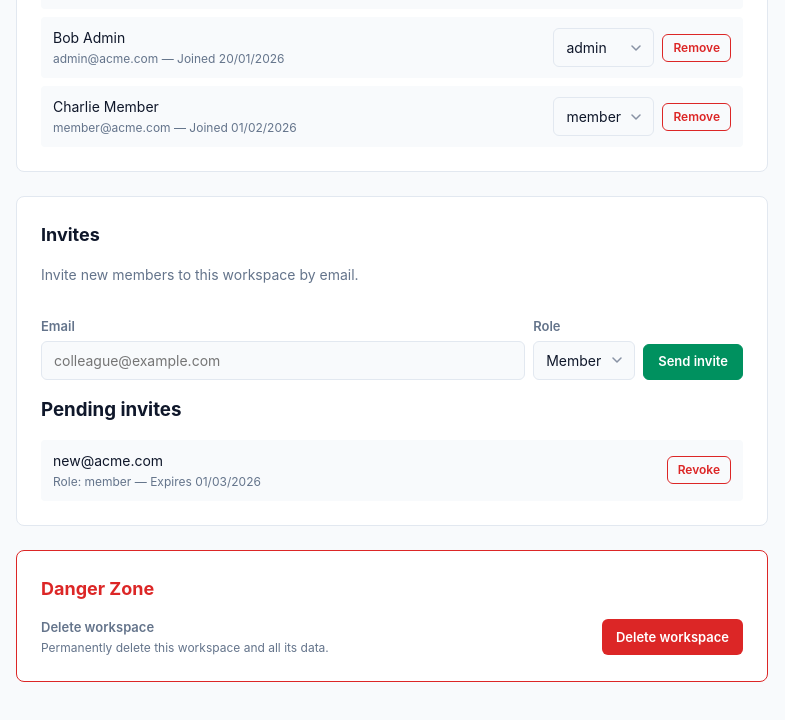
Test case: OrgSettings › send invite form submits correctly
(page scrolled)
Type "colleague@acme.com" into the field labelled "Email" at (283, 360), box top-left (41, 340), bottom-right (525, 380)
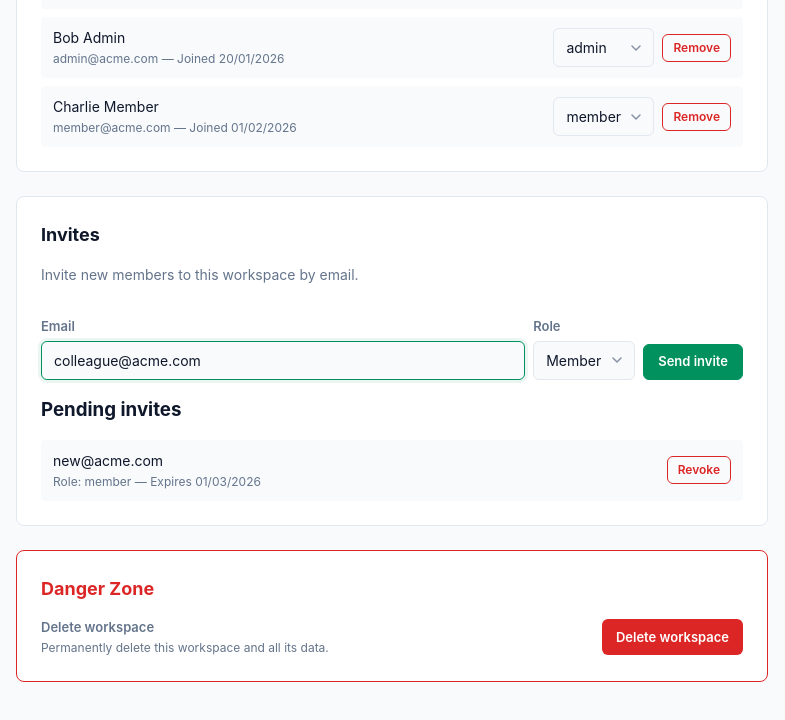
Click the button "Send invite" at (693, 362), box top-left (643, 344), bottom-right (743, 380)
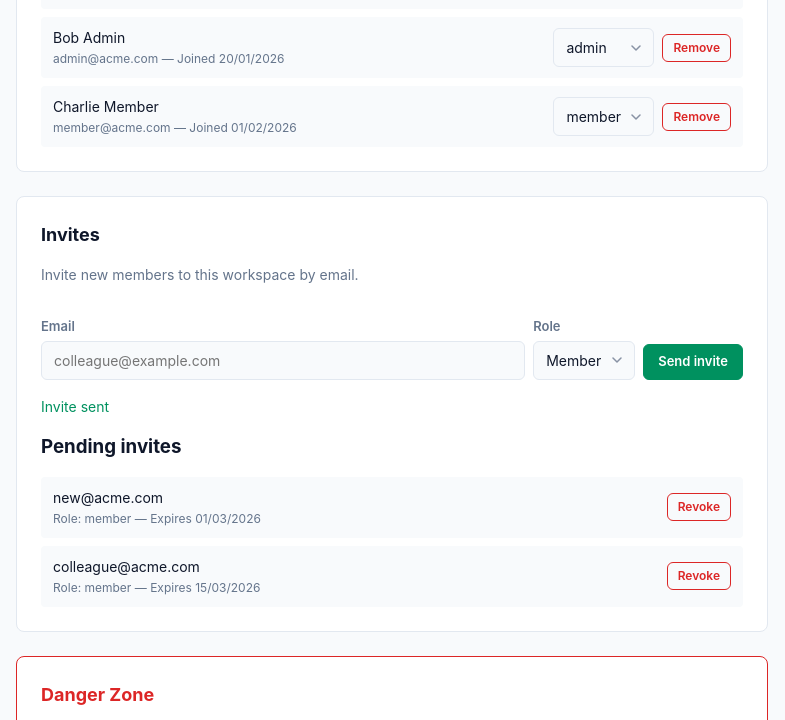
Result: the text "Invite sent" is shown at top-left (41, 398), bottom-right (109, 414)
